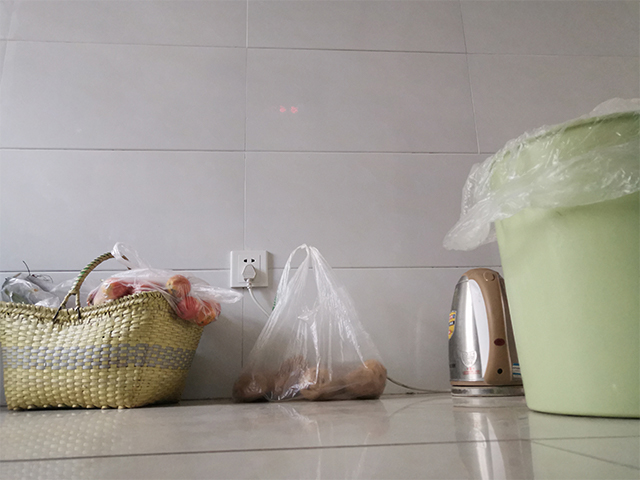trashcan: (479, 108, 640, 421)
wire: (239, 262, 453, 395)
